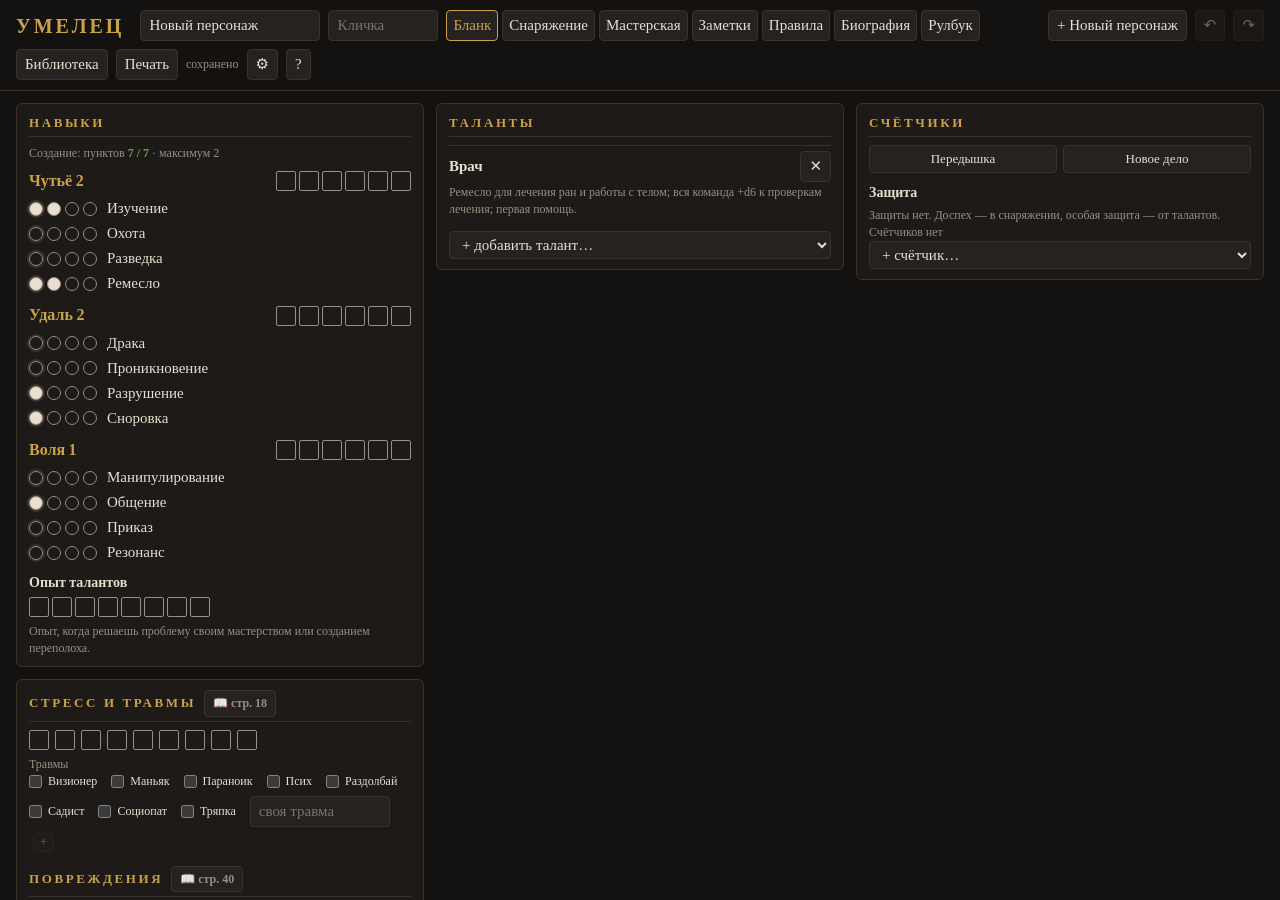
wizard UI › shows the running-game limits
The width and height of the screenshot is (1280, 900).
Later steps or results of the test are not shown.
Step 1. Click the button with test id "new-character" → click(1117, 26), box [1048,10,1187,41]
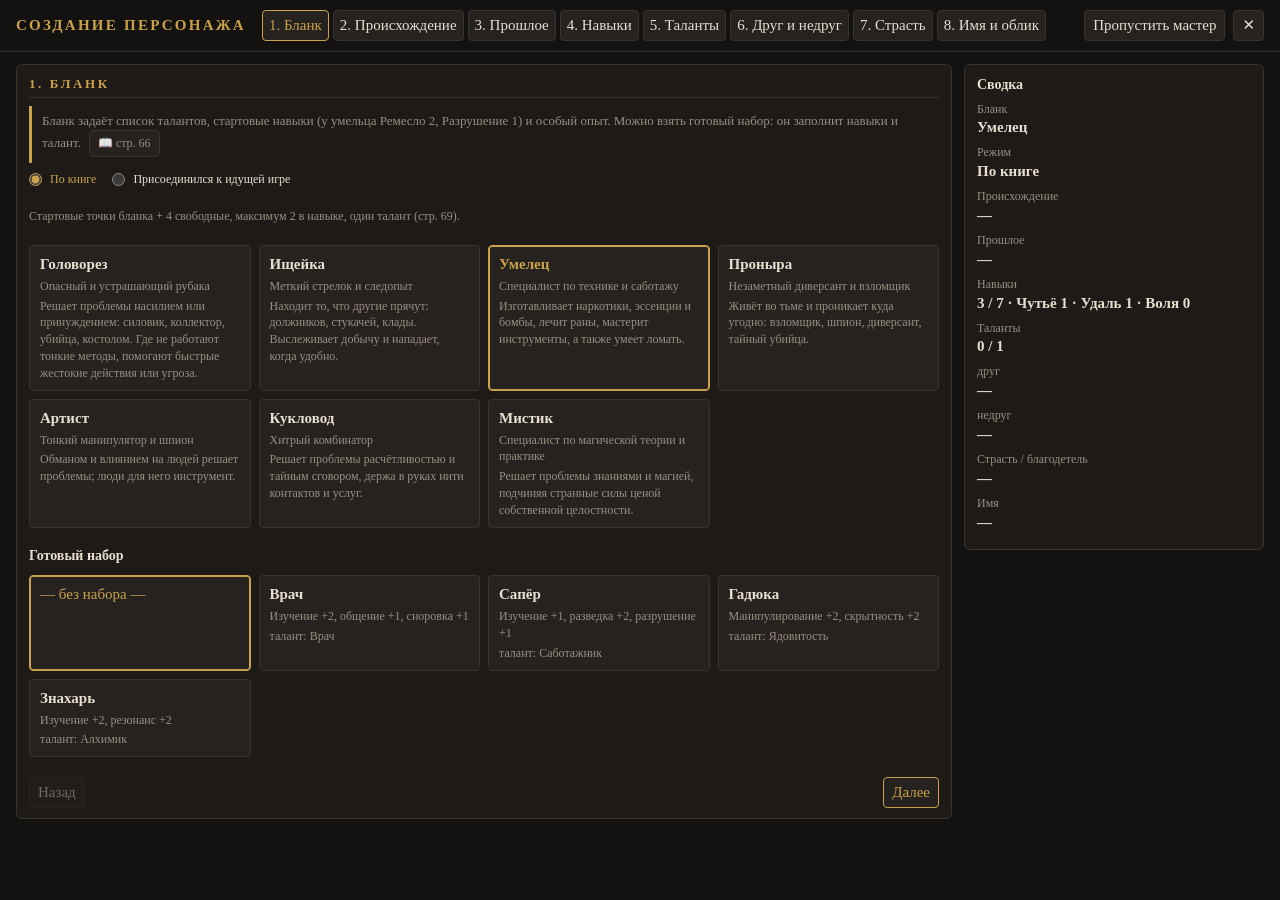
Step 2. Click the radio button with test id "mode-running" → click(119, 180), box [112,173,125,186]
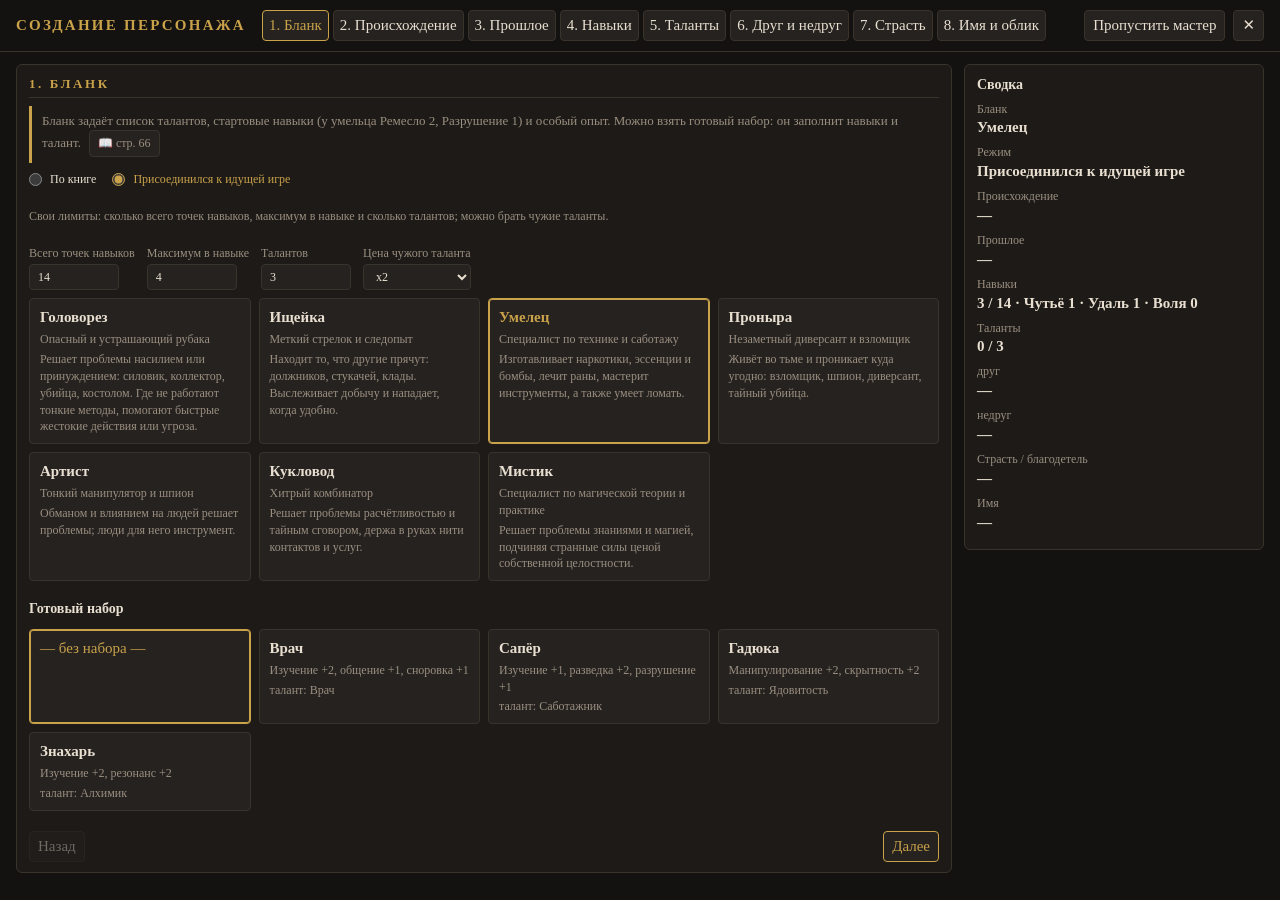
expect the number field with test id "lim-dots" holds "14": met, box [29,264,119,290]
